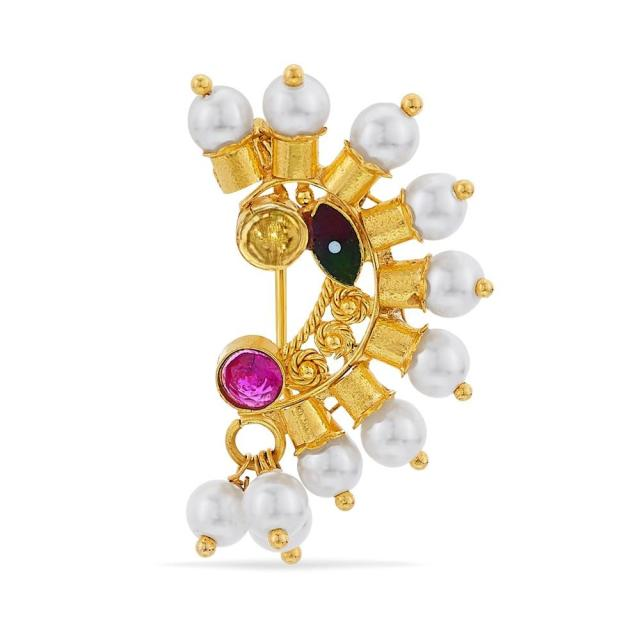missing gem: (242, 209, 302, 267)
